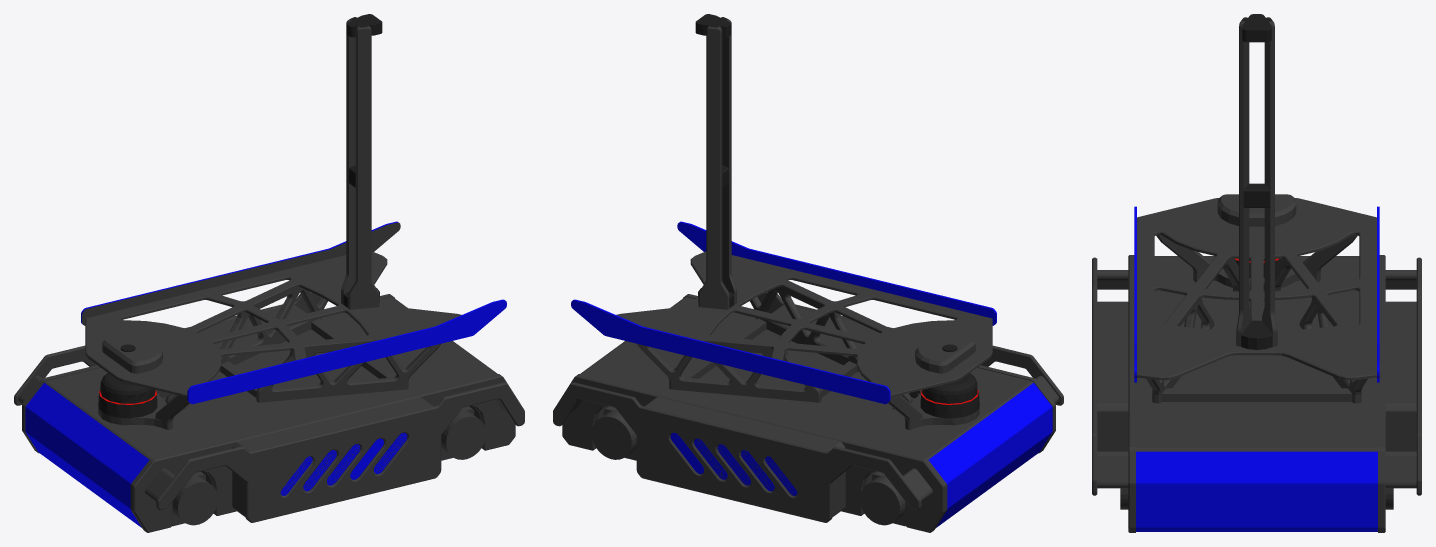
Rendered from wpb_mani_base.dae.
3 views of the same model, side by side, from view 1: azimuth 30°, elevation 25°; view 2: azimuth 150°, elevation 25°; view 3: azimuth 270°, elevation 25° (orthographic). The views are drawn at different scales.
Parts seen in each view (by area): view 1: SketchUp (×14); view 2: SketchUp (×14); view 3: SketchUp (×17).
Part boxes in pixels (box(x1,y1,x2,y2)): SketchUp (×14): box(14, 17, 524, 532); SketchUp (×14): box(553, 17, 1063, 532); SketchUp (×17): box(1092, 14, 1421, 532).
Size of the model in its own units: 22.44 by 14.72 by 22.91.
